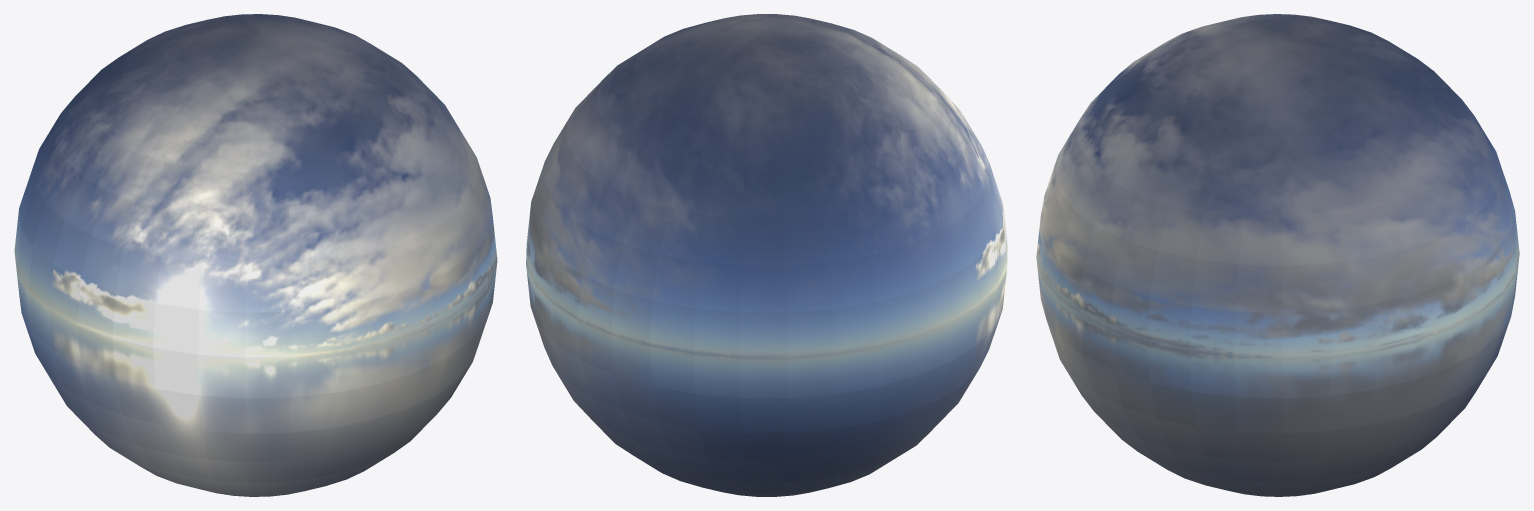
Rendered from Demo.glb.
3 views of the same model, side by side, from view 1: azimuth 30°, elevation 25°; view 2: azimuth 150°, elevation 25°; view 3: azimuth 270°, elevation 25° (orthographic).
Visible parts, largest first — view 1: HDR; view 2: HDR; view 3: HDR.
Part boxes in pixels (<box>): HDR: <box>14,14,497,496</box>; HDR: <box>526,14,1007,496</box>; HDR: <box>1036,14,1519,496</box>.
Bounding box in the file's own units: 3404 × 3405 × 3404.
Materials: 21 (18 with a texture image).
